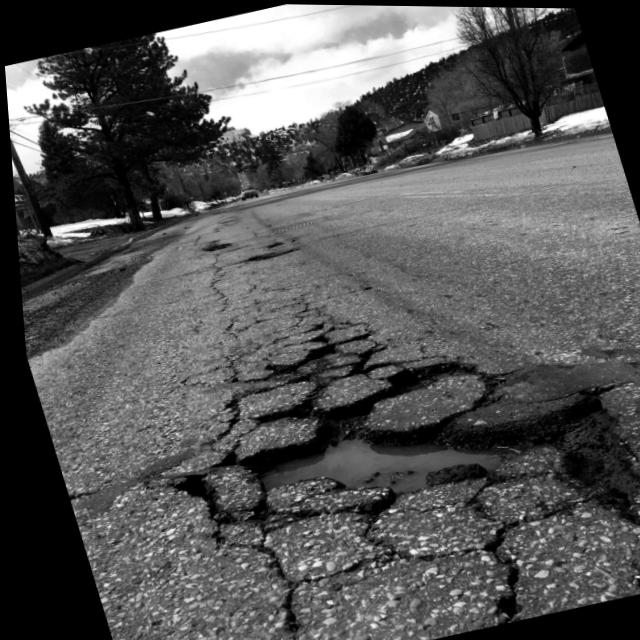pathole: (133, 238, 640, 640), (188, 213, 301, 291)
